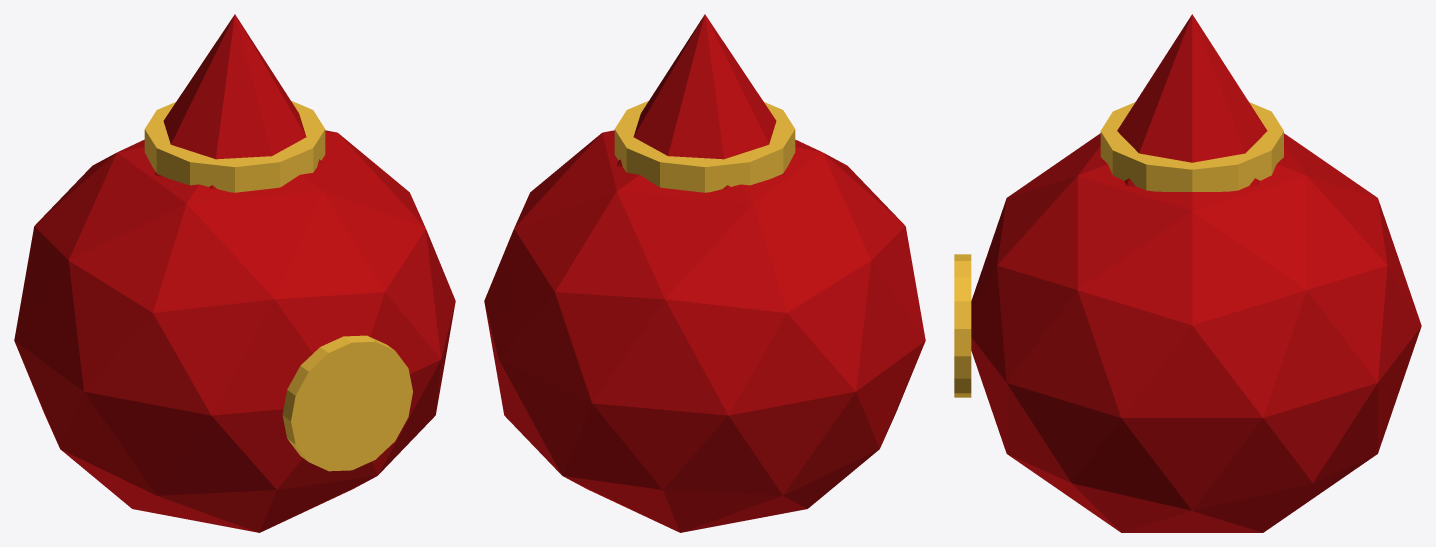
File: Item_OR_MoneyBag_18.glb
The picture shows the model from 3 angles, left to right: view 1: azimuth 30°, elevation 25°; view 2: azimuth 150°, elevation 25°; view 3: azimuth 270°, elevation 25°; orthographic projection.
Visible parts, largest first — view 1: Item_OR_MoneyBag_18; view 2: Item_OR_MoneyBag_18; view 3: Item_OR_MoneyBag_18.
Part boxes in pixels (x1=…): Item_OR_MoneyBag_18: x1=14, y1=14, x2=455, y2=532; Item_OR_MoneyBag_18: x1=484, y1=14, x2=925, y2=532; Item_OR_MoneyBag_18: x1=954, y1=14, x2=1421, y2=532.
Size of the model in its own units: 0.2283 by 0.2925 by 0.2445.
